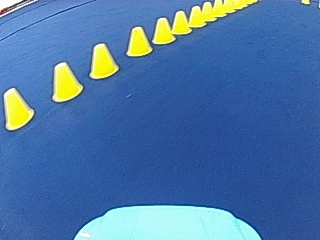cone: (2, 86, 34, 129), (51, 59, 83, 101), (88, 41, 119, 78), (125, 25, 152, 56), (151, 16, 174, 44), (171, 10, 189, 34), (187, 5, 204, 27), (200, 1, 214, 21), (212, 0, 222, 15)
